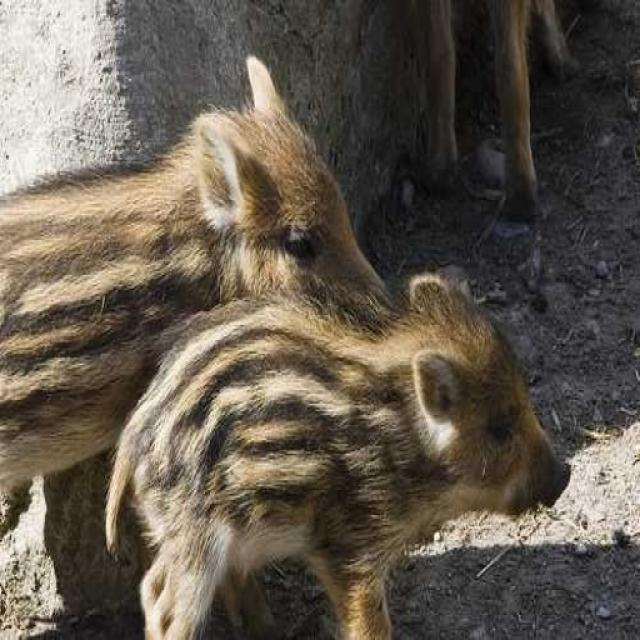pig: (118, 244, 572, 640), (0, 105, 396, 473)
